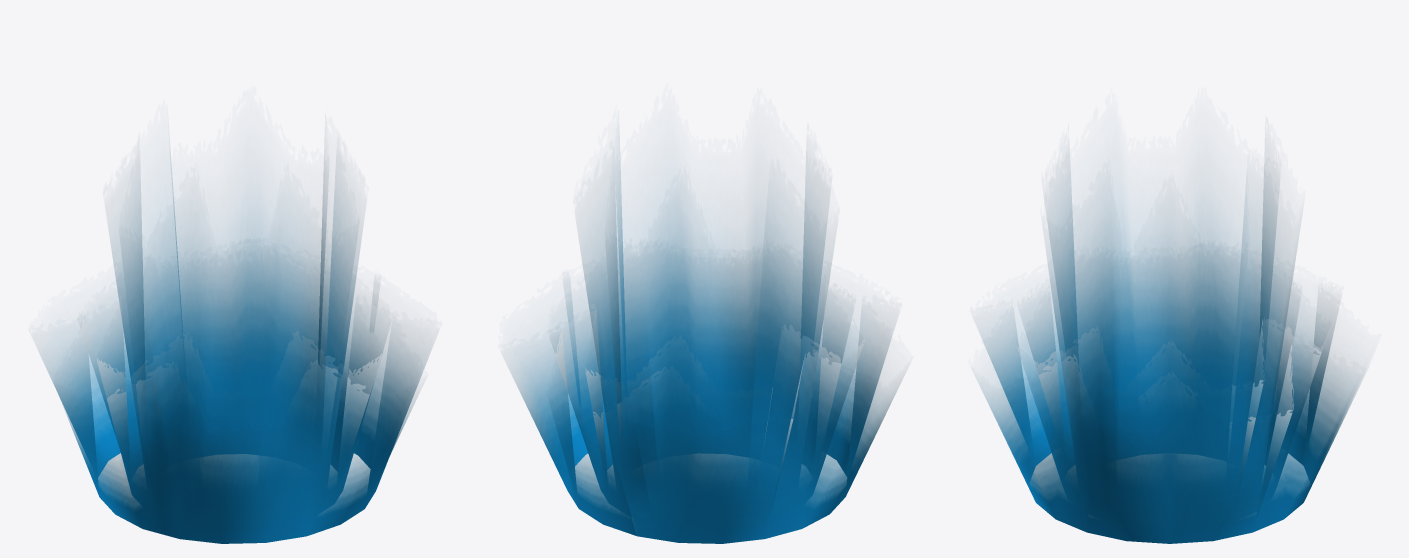
File: holo.glb
3 views of the same model, side by side, from view 1: azimuth 30°, elevation 25°; view 2: azimuth 150°, elevation 25°; view 3: azimuth 270°, elevation 25° (orthographic).
Parts seen in each view (by area): view 1: beam.in.001, beam, beam.in; view 2: beam.in.001, beam, beam.in; view 3: beam.in.001, beam, beam.in.
Part boxes in pixels (x1,y1,x2,y2): beam.in.001: [111, 154, 360, 494]; beam: [40, 289, 430, 543]; beam.in: [88, 308, 384, 520]; beam.in.001: [581, 154, 832, 494]; beam: [510, 286, 900, 543]; beam.in: [559, 301, 855, 521]; beam.in.001: [1046, 164, 1297, 493]; beam: [981, 297, 1362, 543]; beam.in: [1025, 296, 1319, 520].
Size of the model in its own units: 0.1787 by 0.1964 by 0.1788.
Materials: 1 (1 with a texture image).
